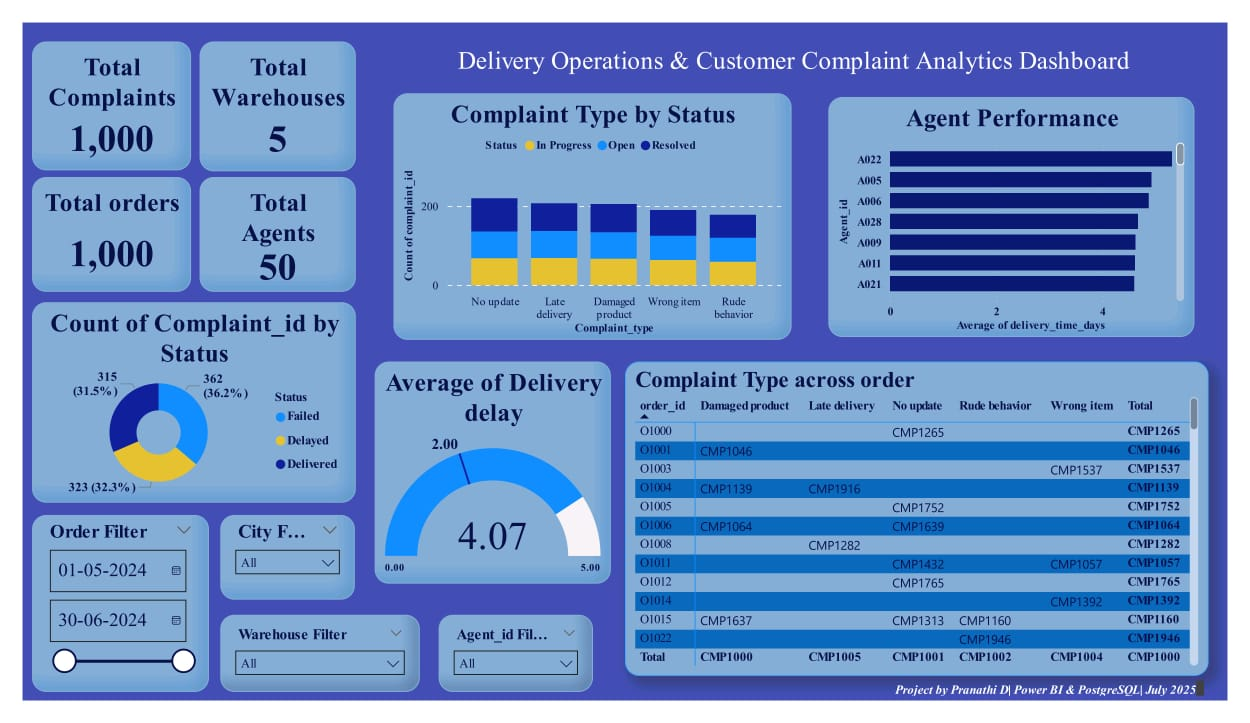

The dashboard page shown, as its layout file describes it:
{"tool":"powerbi","page":{"name":"Page 1","canvas":[1280,720],"ordinal":0},"visuals":[{"type":"card","title":"Total Complaints","fields":{"Values":["Count(tbl_complaints (2).complaint_id)"]},"box":[10,20,169.3,137.1],"z":0},{"type":"card","title":"Total orders","fields":{"Values":["Count(tbl_orders.order_id)"]},"box":[10,164.3,169.3,121.4],"z":1000},{"type":"card","title":"Total Agents","fields":{"Values":["Count(tbl_delivery_agents.agent_id)"]},"box":[188.3,164.2,165.8,121.7],"z":2000},{"type":"card","title":"Total Warehouses","fields":{"Values":["Count(warehouses.warehouse_id)"]},"box":[187.5,20,166.7,137.5],"z":3000},{"type":"columnChart","title":"Complaint Type by Status","fields":{"Category":["tbl_complaints (2).complaint_type"],"Series":["tbl_complaints (2).status"],"Y":["CountNonNull(tbl_complaints (2).complaint_id)"]},"box":[393.9,74.8,423.3,262.6],"z":4000},{"type":"clusteredBarChart","title":"Agent Performance","fields":{"Category":["tbl_delivery_agents.agent_id"],"Y":["Avg(tbl_deliveries.delivery_time_days)"]},"box":[856.4,78.5,389,255.2],"z":5000},{"type":"donutChart","title":"Count of Complaint_id by Status","fields":{"Category":["tbl_deliveries.status"],"Y":["CountNonNull(tbl_complaints (2).complaint_id)"]},"box":[10,297.1,344.3,212.9],"z":6000},{"type":"pivotTable","title":"Complaint Type across order","fields":{"Rows":["tbl_orders.order_id"],"Columns":["tbl_complaints (2).complaint_type"],"Values":["Min(tbl_complaints (2).complaint_id)"]},"box":[640.5,359.5,619.6,335],"z":7000},{"type":"slicer","fields":{"Values":["tbl_orders.city"]},"box":[209.5,523.1,144,89.8],"z":8000},{"type":"slicer","fields":{"Values":["tbl_orders.order_date"]},"box":[10,523.1,188.2,188.2],"z":9000},{"type":"slicer","fields":{"Values":["warehouses.warehouse_id"]},"box":[209.5,628.6,212.4,82.7],"z":10000},{"type":"slicer","fields":{"Values":["tbl_delivery_agents.agent_id"]},"box":[441.9,628.6,163.9,82.7],"z":11000},{"type":"gauge","title":"Average of Delivery delay","fields":{"Y":["Avg(tbl_deliveries.delivery_time_days)"]},"box":[374.2,359.5,250.3,236.8],"z":12000},{"type":"textbox","box":[393.9,19.6,851.5,68.7],"z":13000},{"type":"textbox","box":[741.1,694.5,519,25.8],"z":13001}]}

Visuals, with their boxes in screenshot pixels (x1, y1, x2, y2), scaled from the page's 1280x720 canvas onto the 1250x723 screenshot:
"Total Complaints" card: (left=10, top=20, right=175, bottom=158)
"Total orders" card: (left=10, top=165, right=175, bottom=287)
"Total Agents" card: (left=184, top=165, right=346, bottom=287)
"Total Warehouses" card: (left=183, top=20, right=346, bottom=158)
"Complaint Type by Status" columnChart: (left=385, top=75, right=798, bottom=339)
"Agent Performance" clusteredBarChart: (left=836, top=79, right=1216, bottom=335)
"Count of Complaint_id by Status" donutChart: (left=10, top=298, right=346, bottom=512)
"Complaint Type across order" pivotTable: (left=625, top=361, right=1231, bottom=697)
slicer - tbl_orders.city: (left=205, top=525, right=345, bottom=615)
slicer - tbl_orders.order_date: (left=10, top=525, right=194, bottom=714)
slicer - warehouses.warehouse_id: (left=205, top=631, right=412, bottom=714)
slicer - tbl_delivery_agents.agent_id: (left=432, top=631, right=592, bottom=714)
"Average of Delivery delay" gauge: (left=365, top=361, right=610, bottom=599)
textbox: (left=385, top=20, right=1216, bottom=89)
textbox: (left=724, top=697, right=1231, bottom=722)
